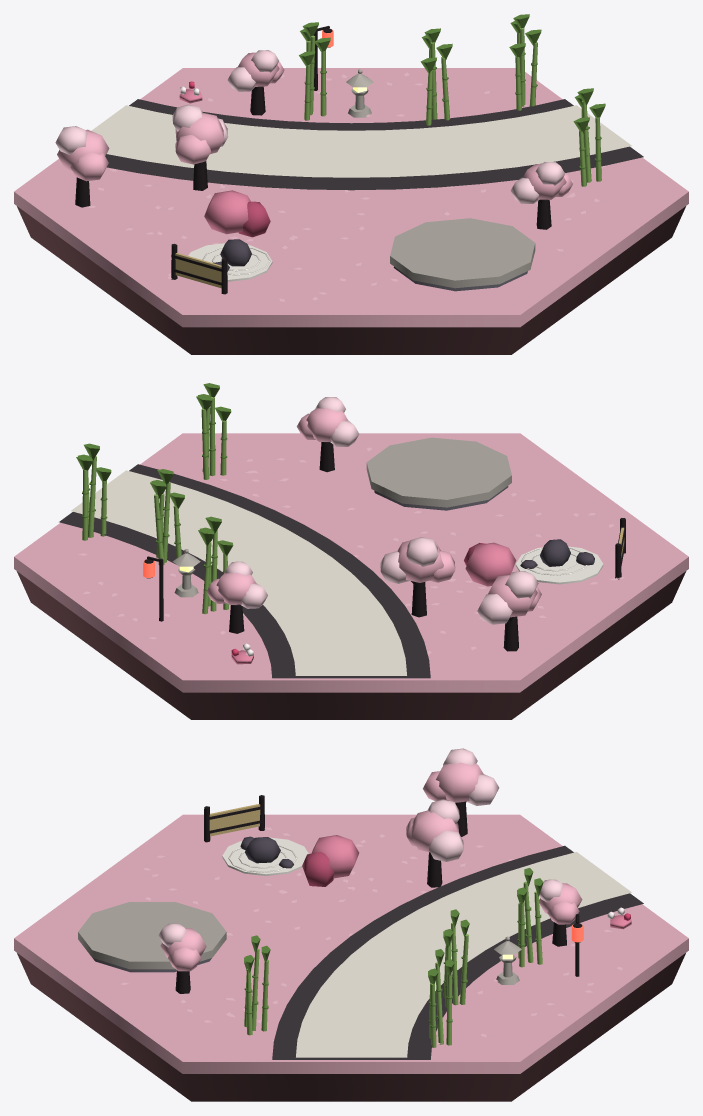
File: tile_grove.glb
3 renders of one model, top to bottom at view 1: azimuth 30°, elevation 25°; view 2: azimuth 150°, elevation 25°; view 3: azimuth 270°, elevation 25°, orthographic.
Parts seen in each view (by area): view 1: ground, road, ground_soil, tower_slot_1_plate, deco_tree_1, deco_tree_3, deco_tree_5, deco_tree_0, deco_bamboo_grove_0, deco_bamboo_grove_1, deco_bamboo, deco_bush_2_a (+6 smaller); view 2: ground, road, ground_soil, tower_slot_1_plate, deco_tree_1, deco_tree_3, deco_tree_5, deco_tree_0, deco_bamboo_grove_0, deco_bamboo, deco_bamboo_grove_2, deco_karesansui_gravel (+4 smaller); view 3: ground, road, ground_soil, tower_slot_1_plate, deco_tree_3, deco_tree_1, deco_tree_5, deco_karesansui_gravel, deco_bamboo_grove_1, deco_bamboo_grove_0, deco_bamboo, deco_tree_0 (+6 smaller).
Boxes of the visible parts, x1,y1,x2,y2 form: ground: (14,68,688,327); road: (91,99,643,190); ground_soil: (17,206,685,354); tower_slot_1_plate: (390,218,535,288); deco_tree_1: (172,104,228,164); deco_tree_3: (55,126,109,181); deco_tree_5: (510,162,572,203); deco_tree_0: (227,50,284,91); deco_bamboo_grove_0: (573,88,605,186); deco_bamboo_grove_1: (299,22,330,120); deco_bamboo: (509,14,541,110); deco_bush_2_a: (204,190,250,234); ground: (14,433,688,692); road: (59,464,430,678); ground_soil: (16,571,686,719); tower_slot_1_plate: (366,437,511,507); deco_tree_1: (380,537,455,583); deco_tree_3: (477,571,541,624); deco_tree_5: (296,397,359,446); deco_tree_0: (206,561,267,608); deco_bamboo_grove_0: (196,383,231,479); deco_bamboo: (76,443,111,540); deco_bamboo_grove_2: (150,469,184,564); deco_karesansui_gravel: (515,546,603,584); ground: (14,814,688,1073); road: (272,845,643,1059); ground_soil: (17,953,685,1101); tower_slot_1_plate: (78,902,226,969); deco_tree_3: (423,748,499,805); deco_tree_1: (406,799,463,861); deco_tree_5: (158,923,206,971); deco_karesansui_gravel: (222,837,308,875); deco_bamboo_grove_1: (517,868,543,967); deco_bamboo_grove_0: (244,935,270,1035); deco_bamboo: (428,949,454,1047); deco_tree_0: (539,879,582,924).
Bounding box in the file's own units: 1.73 × 0.445 × 2.
